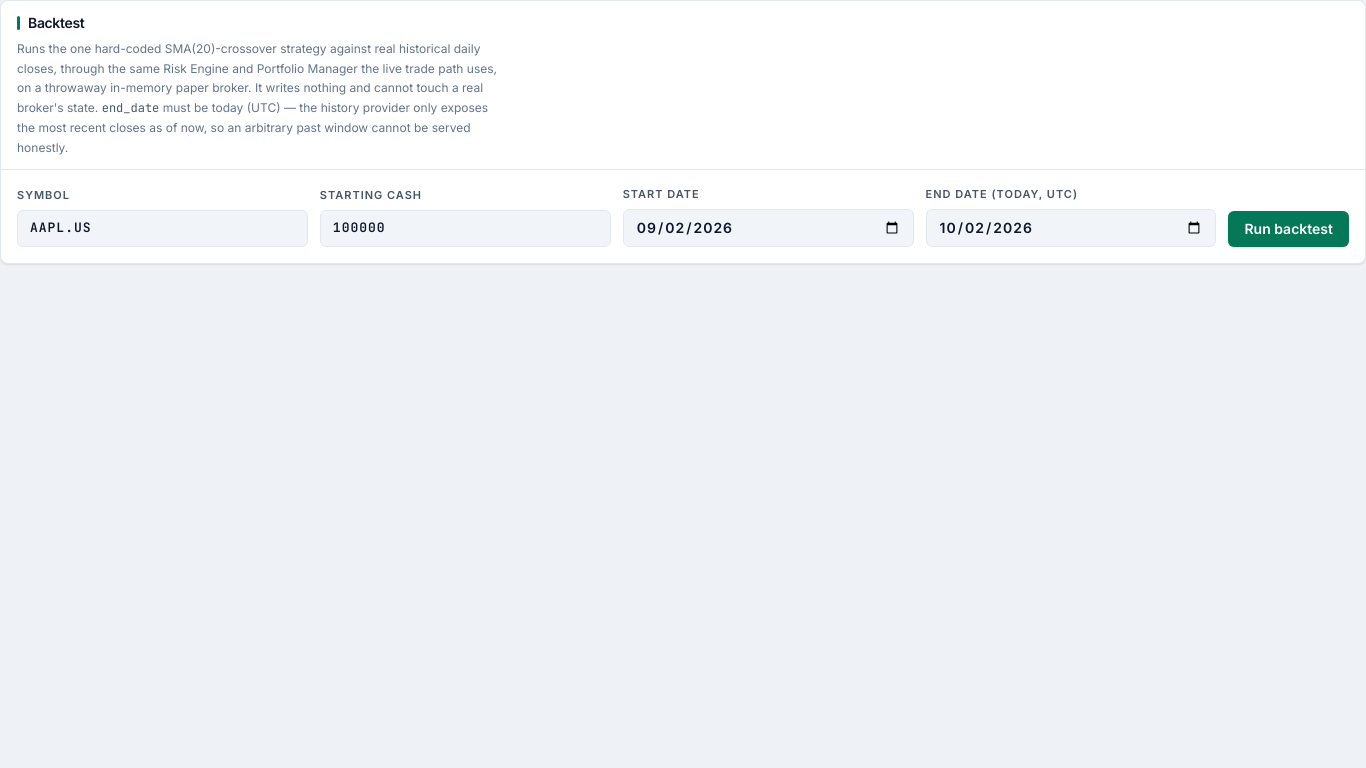
Test case: BacktestPanel › renders the D035 Portfolio Manager counters when it intervened
The image size is (1366, 768).
Click the button "Run backtest" at (1289, 228), box 1228,210 -> 1349,246
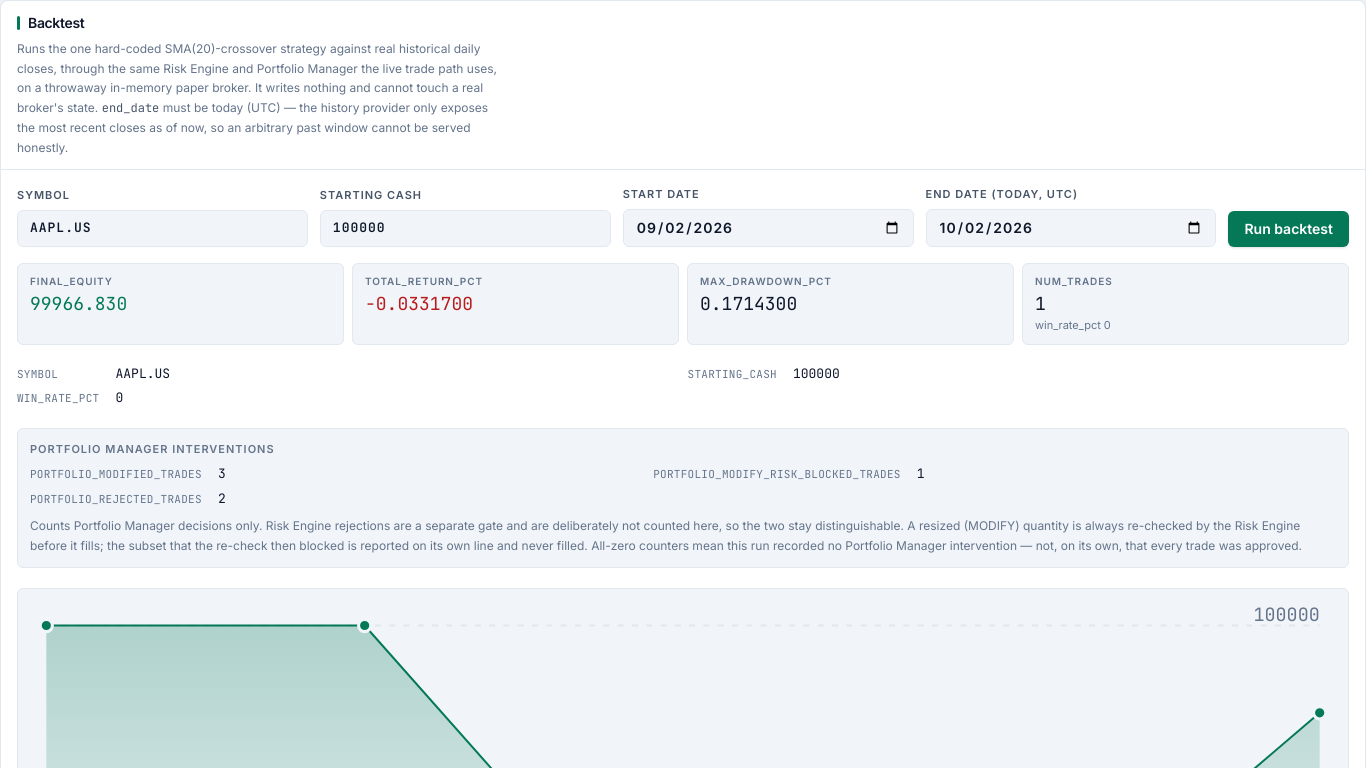
Check: the text with test id "bt-pm-modified" reads "3", box 218,465 -> 226,482
Check: the text with test id "bt-pm-modify-blocked" reads "1", box 917,465 -> 924,482
Check: the text with test id "bt-pm-rejected" reads "2", box 218,490 -> 226,507
